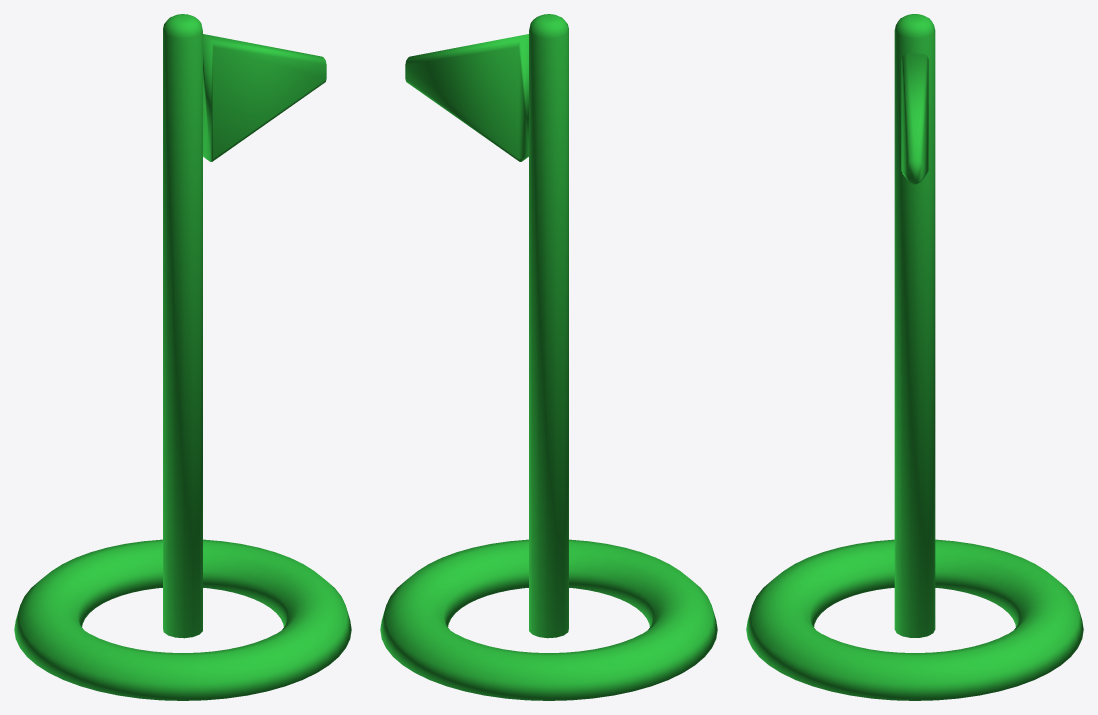
File: flag.fbx
The picture shows the model from 3 angles, left to right: view 1: azimuth 30°, elevation 25°; view 2: azimuth 150°, elevation 25°; view 3: azimuth 270°, elevation 25°; orthographic projection.
Parts seen in each view (by area): view 1: Torus; view 2: Torus; view 3: Torus.
Boxes of the visible parts, box(x1,y1,x2,y2) form: Torus: box(14, 14, 351, 700); Torus: box(380, 14, 717, 700); Torus: box(746, 14, 1083, 700).
Size of the model in its own units: 200 by 400 by 200.
